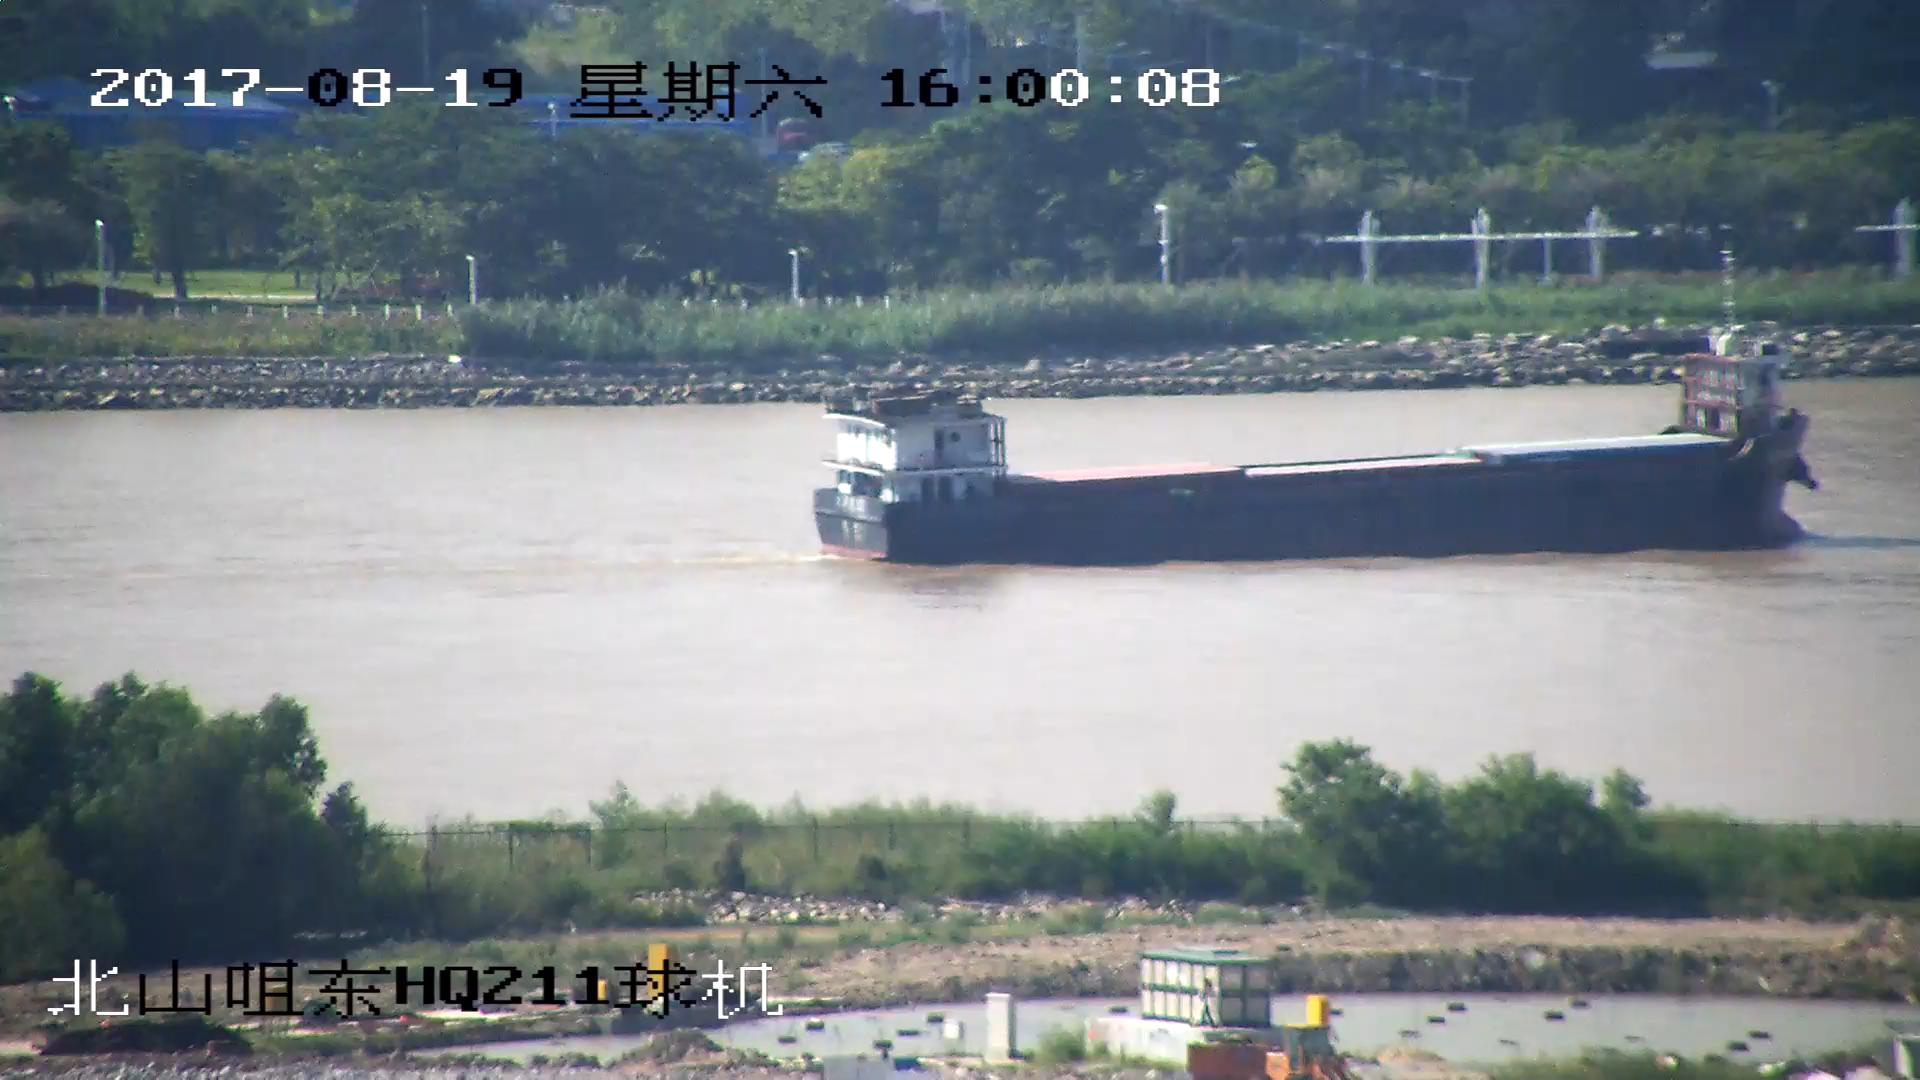general cargo ship: (807, 311, 1827, 566)
